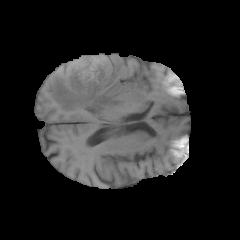glioma: (50, 54, 131, 113)
